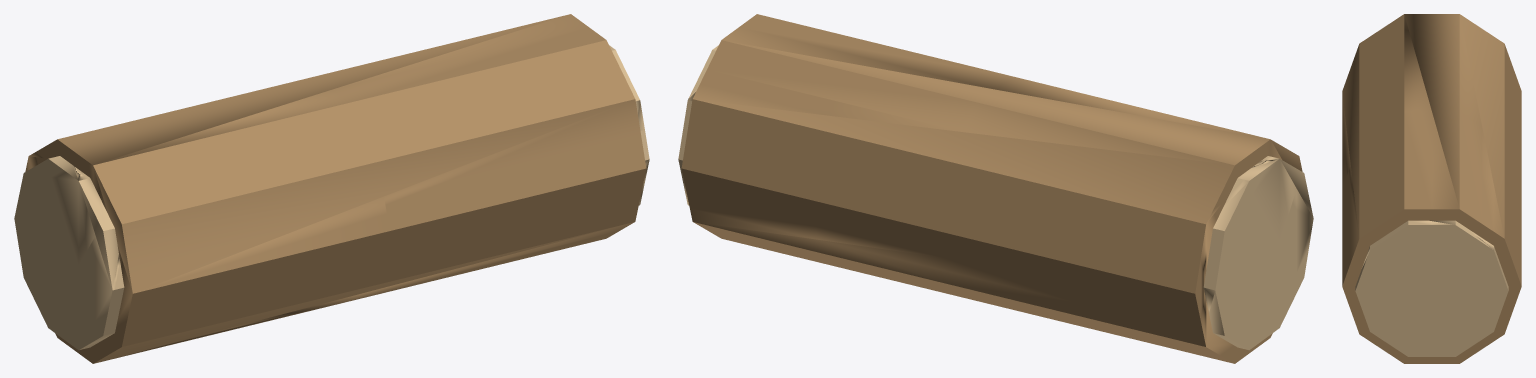
File: log.glb
3 views of the same model, side by side, from view 1: azimuth 30°, elevation 25°; view 2: azimuth 150°, elevation 25°; view 3: azimuth 270°, elevation 25° (orthographic). The views are drawn at different scales.
Visible parts, largest first — view 1: Log; view 2: Log; view 3: Log.
Boxes of the visible parts, bbox=[...] form: Log: bbox=[14, 14, 649, 363]; Log: bbox=[678, 14, 1313, 363]; Log: bbox=[1342, 14, 1521, 363].
Bounding box in the file's own units: 1.83 × 0.6467 × 0.68.
